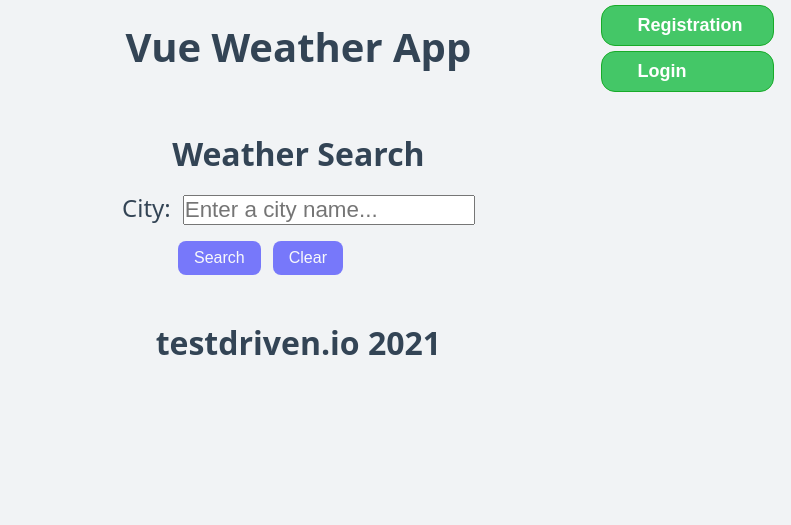
Test: Behavioral Test for Home.vue with Successful HTTP GET › displays the weather data for a valid search
This screenshot has width=791, height=525.
# Set the input data
Type "Chicago" into the field labelled "City:" at (329, 210), box x1=183 y1=195 x2=475 y2=225
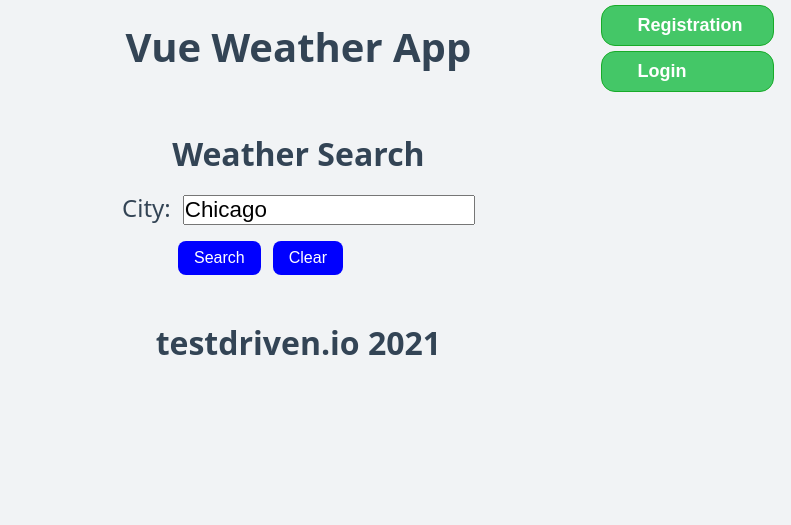
Expected: the button "Clear" is shown, x1=273 y1=241 x2=343 y2=275
Now the button "Search" is enabled
Now the button "Clear" is enabled, box x1=273 y1=241 x2=343 y2=275
# trigger an event when the 'Search' button is clicked
Click the button "Search" at (219, 258), box x1=178 y1=241 x2=261 y2=275
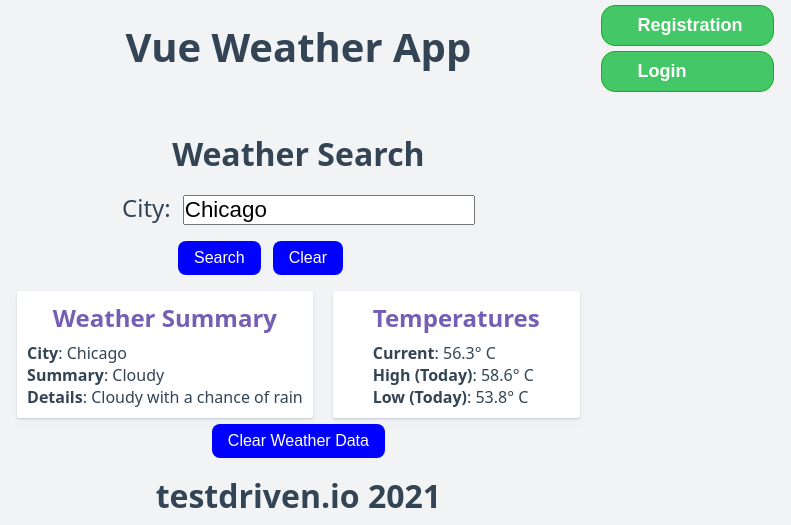
Now the heading "Weather Summary" is shown, box x1=53 y1=301 x2=277 y2=334
Now the heading "Temperatures" is shown, box x1=373 y1=301 x2=540 y2=334
Now the element showing "City: Chicago" is shown, box x1=27 y1=342 x2=127 y2=364
